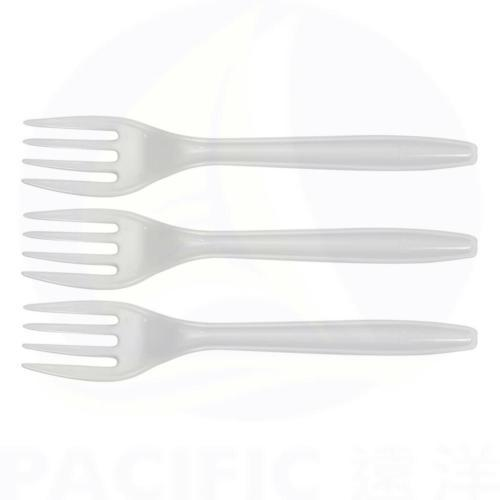Fork: (21, 299, 478, 383), (20, 208, 478, 291), (21, 115, 477, 198)
